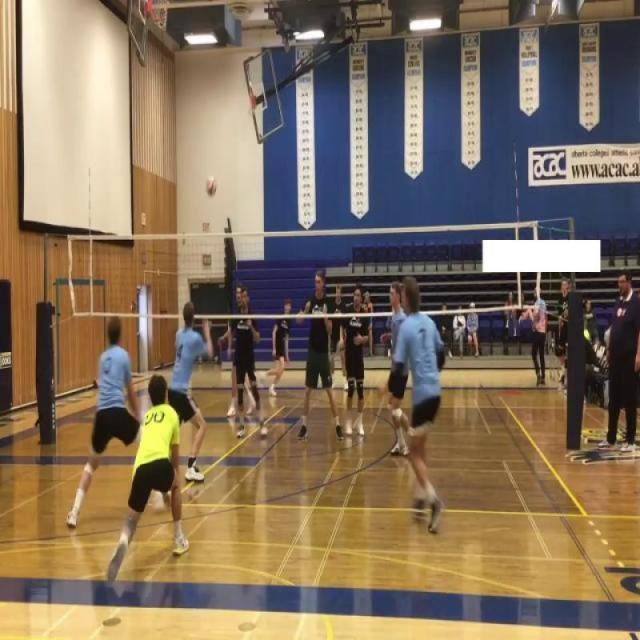volleyball: (205, 175, 218, 199)
